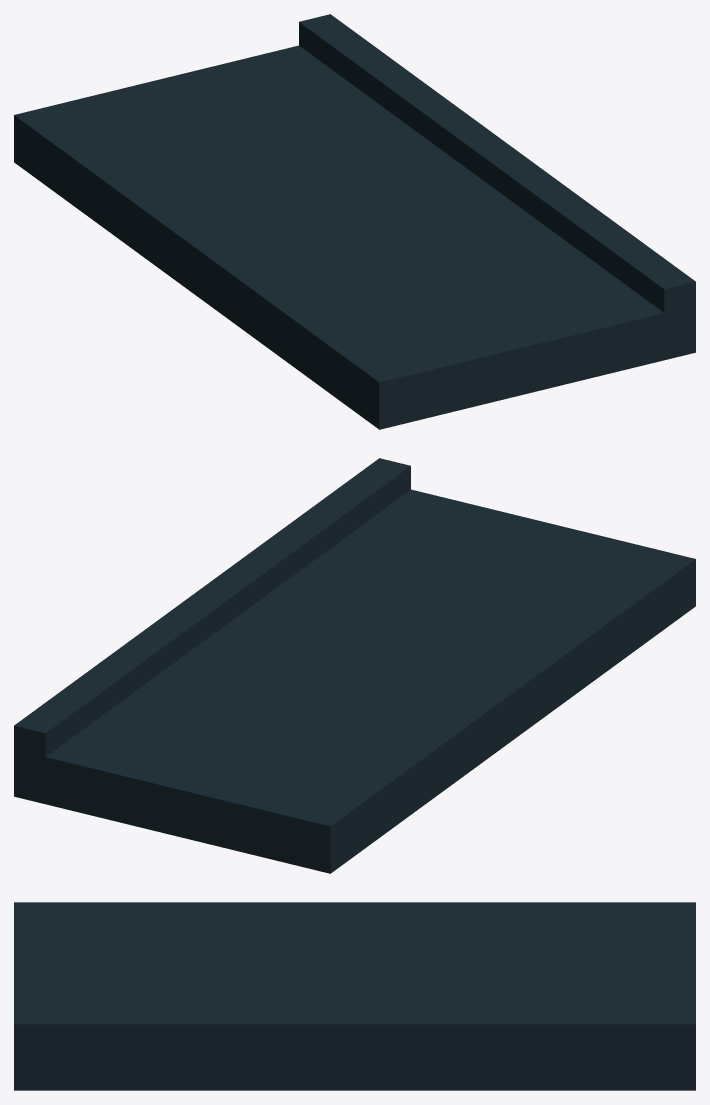
File: Road.fbx
3 renders of one model, top to bottom at view 1: azimuth 30°, elevation 25°; view 2: azimuth 150°, elevation 25°; view 3: azimuth 270°, elevation 25°, orthographic. The views are drawn at different scales.
Parts seen in each view (by area): view 1: road; view 2: road; view 3: road.
Part boxes in pixels (x1=…): road: x1=14, y1=14, x2=695, y2=429; road: x1=14, y1=458, x2=695, y2=873; road: x1=14, y1=902, x2=695, y2=1090.
Bounding box in the file's own units: 70 × 140 × 15.
1 material, 1 textured.
